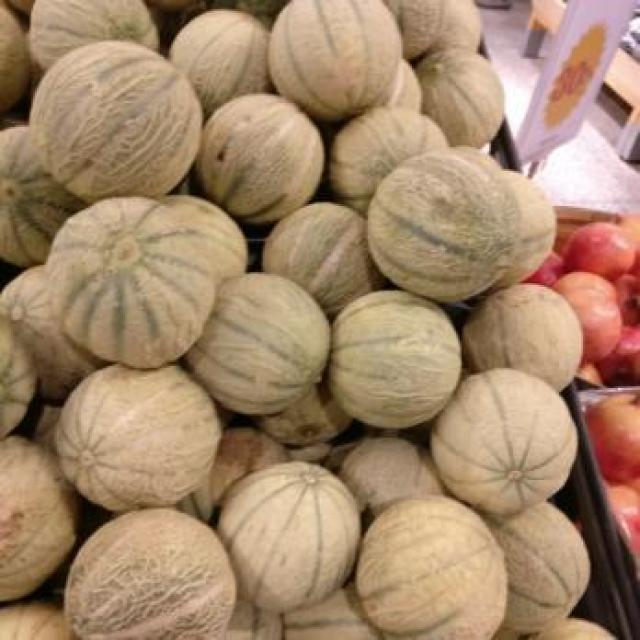Cantaloupe: (33, 202, 224, 366), (26, 40, 210, 206), (46, 364, 219, 513), (426, 372, 600, 512), (366, 156, 524, 302), (212, 456, 364, 603), (357, 508, 515, 638), (337, 293, 465, 421), (201, 90, 329, 215)
